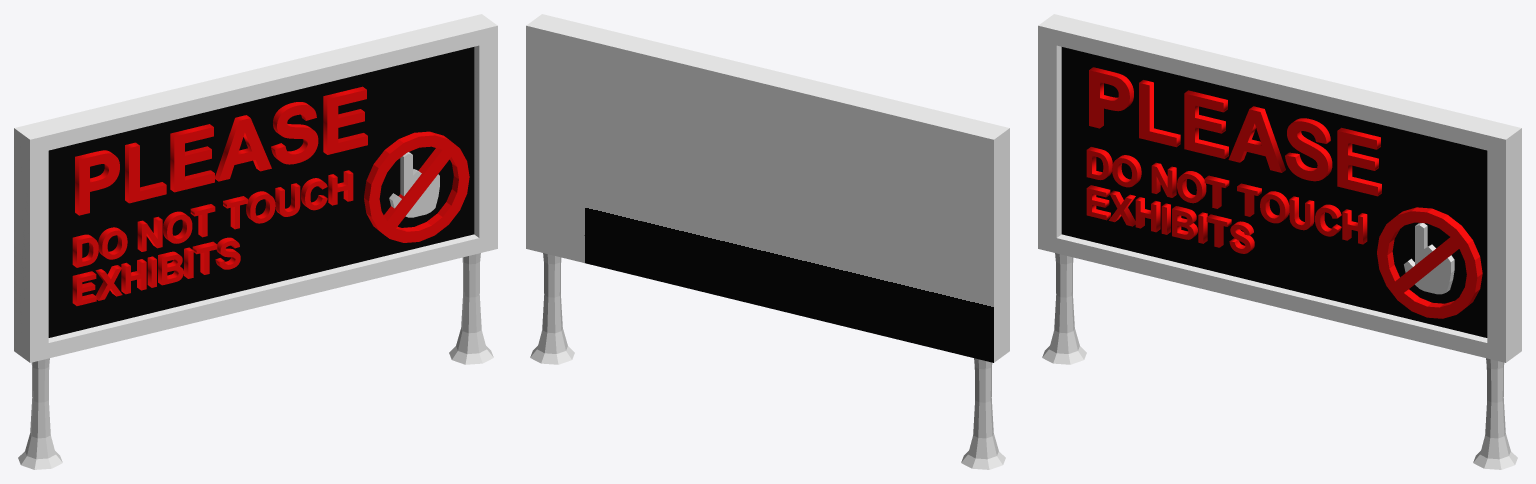
File: sign.fbx
The picture shows the model from 3 angles, left to right: view 1: azimuth 30°, elevation 25°; view 2: azimuth 150°, elevation 25°; view 3: azimuth 330°, elevation 25°; orthographic projection.
Parts seen in each view (by area): view 1: Cube, Text, Text.001, Cylinder, Cube.001, Cube.002; view 2: Cube, Cube.001; view 3: Cube, Text, Text.001, Cylinder, Cube.001, Cube.002.
Part boxes in pixels (bbox=[...]): Cube: bbox=[14, 14, 497, 362]; Text: bbox=[75, 86, 367, 215]; Text.001: bbox=[72, 170, 353, 305]; Cylinder: bbox=[364, 131, 469, 242]; Cube.001: bbox=[18, 253, 493, 469]; Cube.002: bbox=[389, 152, 439, 217]; Cube: bbox=[526, 14, 1009, 362]; Cube.001: bbox=[530, 253, 1005, 469]; Cube: bbox=[1038, 14, 1521, 362]; Text: bbox=[1089, 67, 1381, 196]; Text.001: bbox=[1086, 147, 1367, 253]; Cylinder: bbox=[1377, 207, 1482, 318]; Cube.001: bbox=[1042, 253, 1517, 469]; Cube.002: bbox=[1404, 223, 1454, 294].
Bounding box in the file's own units: 441 × 297 × 36.79.
